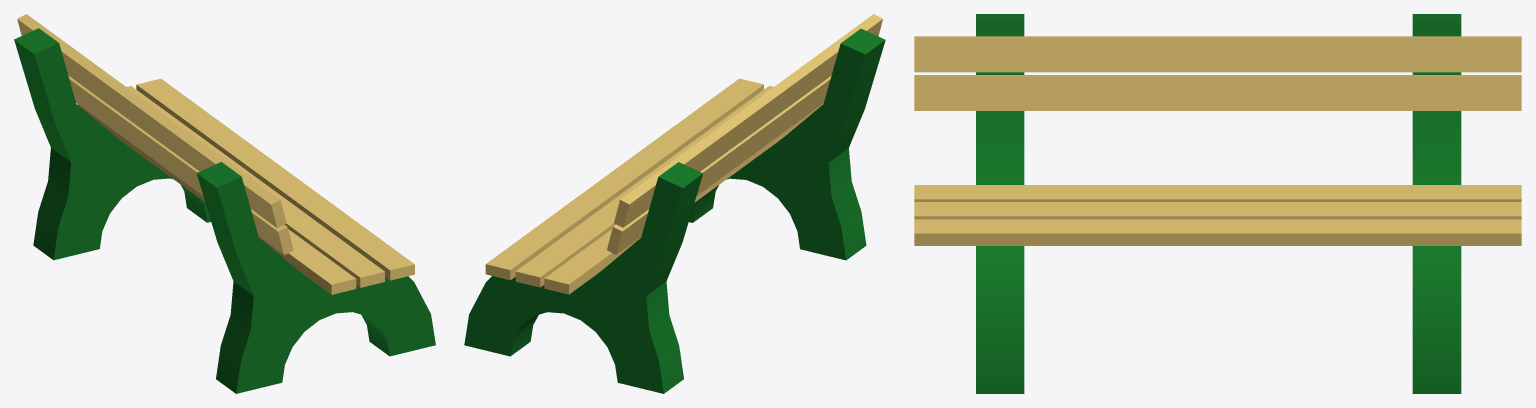
File: bench.fbx
The picture shows the model from 3 angles, left to right: view 1: azimuth 30°, elevation 25°; view 2: azimuth 150°, elevation 25°; view 3: azimuth 270°, elevation 25°; orthographic projection. The views are drawn at different scales.
Visible parts, largest first — view 1: pPipe3; view 2: pPipe3; view 3: pPipe3.
Boxes of the visible parts, <box> form: pPipe3: <box>14,14,435,393</box>; pPipe3: <box>464,14,885,393</box>; pPipe3: <box>914,14,1521,393</box>.
Size of the model in its own units: 20.35 by 19.17 by 40.85.
